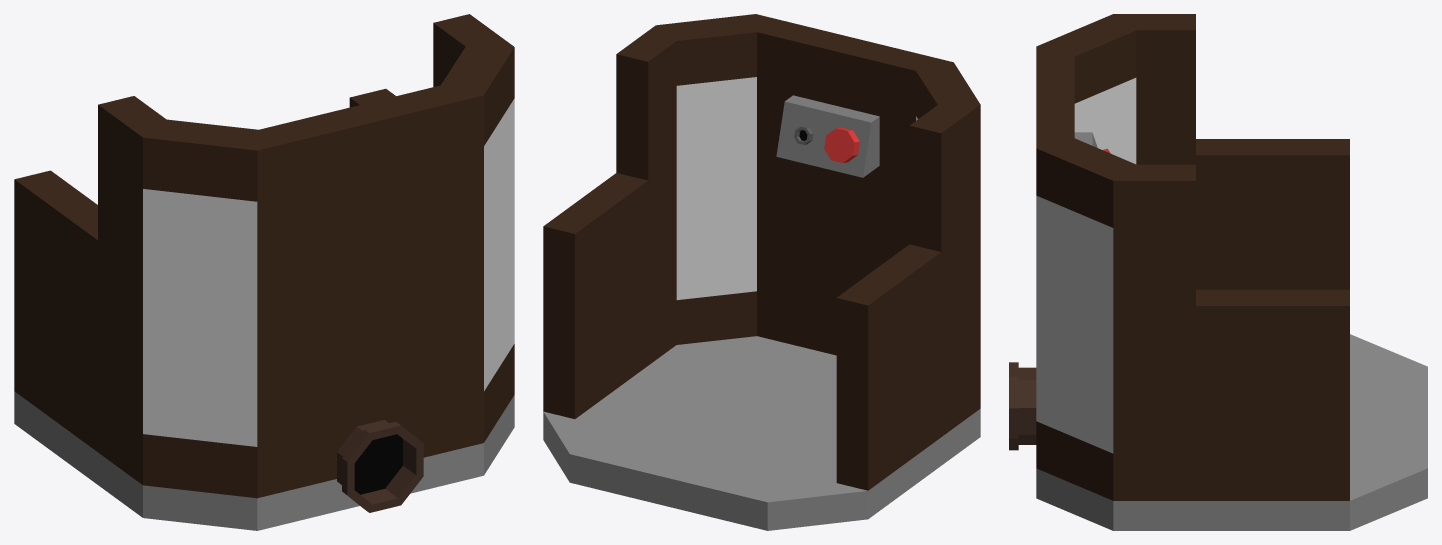
Rendered from Spawn.fbx.
The picture shows the model from 3 angles, left to right: view 1: azimuth 30°, elevation 25°; view 2: azimuth 150°, elevation 25°; view 3: azimuth 270°, elevation 25°; orthographic projection. The views are drawn at different scales.
Visible parts, largest first — view 1: Cube.060, Cube.061, Cylinder.043; view 2: Cube.060, Cube.061, Cylinder.042; view 3: Cube.060, Cube.061, Cylinder.043.
Boxes of the visible parts, box(x1,y1,x2,y2) form: Cube.060: box(14, 14, 514, 530); Cube.061: box(143, 98, 514, 446); Cylinder.043: box(337, 420, 423, 512); Cube.060: box(543, 14, 980, 530); Cube.061: box(676, 77, 917, 299); Cylinder.042: box(824, 127, 859, 162); Cube.060: box(1036, 14, 1427, 530); Cube.061: box(1036, 78, 1136, 453); Cylinder.043: box(1009, 362, 1036, 450).
Bounding box in the file's own units: 178 × 175 × 189.
